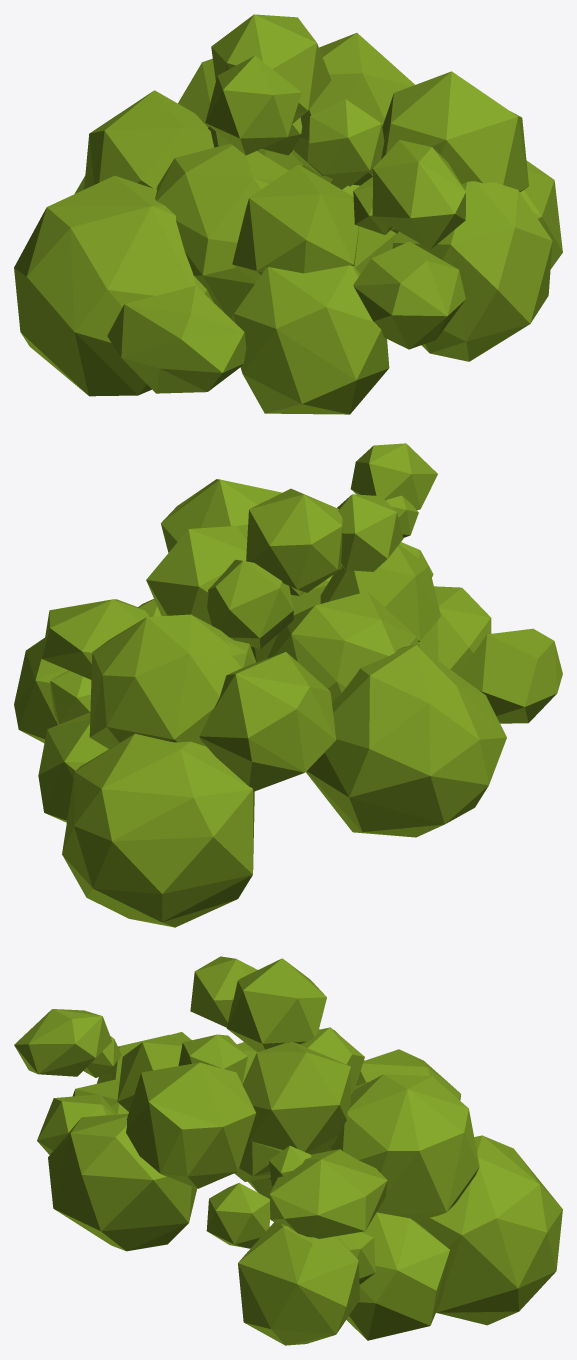
File: leavesonly.gltf
3 views of the same model, one above another, from view 1: azimuth 30°, elevation 25°; view 2: azimuth 150°, elevation 25°; view 3: azimuth 270°, elevation 25° (orthographic). The views are drawn at different scales.
Parts seen in each view (by area): view 1: Icosphere.027; view 2: Icosphere.027; view 3: Icosphere.027.
Boxes of the visible parts, <box> form: Icosphere.027: <box>14,14,562,414</box>; Icosphere.027: <box>14,443,562,927</box>; Icosphere.027: <box>14,956,562,1345</box>.
Size of the model in its own units: 45.1 by 33.45 by 49.3.
